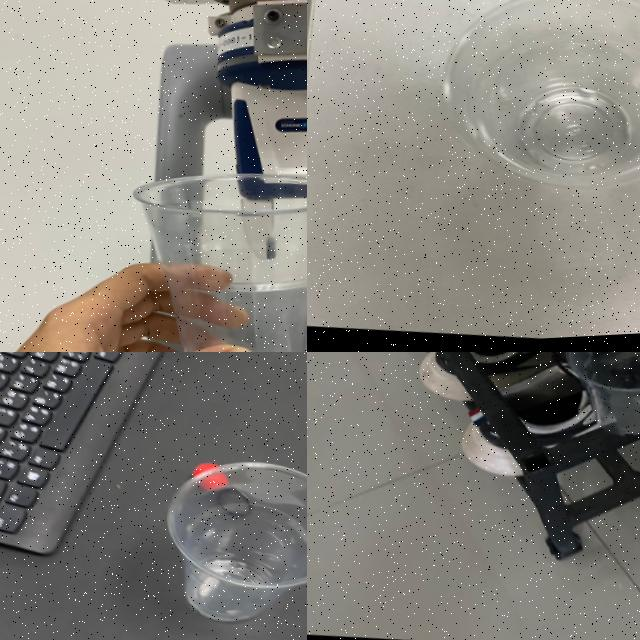glass: (410, 0, 640, 221), (103, 151, 307, 352), (146, 449, 307, 640), (544, 352, 640, 461)
